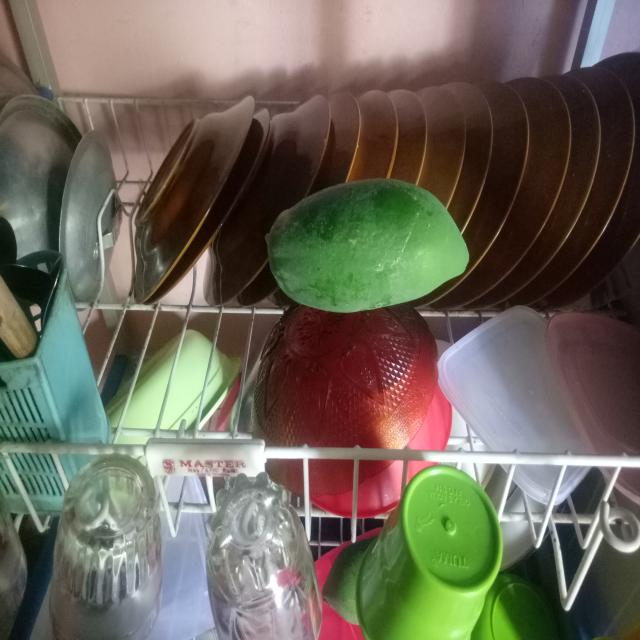Pepaya unrippen: (262, 182, 478, 318)
